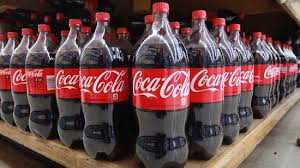coke: (137, 2, 189, 165), (82, 17, 128, 160), (188, 7, 226, 157), (58, 21, 86, 146), (218, 19, 243, 143), (30, 27, 53, 138), (234, 23, 256, 130), (14, 31, 30, 127), (254, 34, 270, 115), (2, 32, 14, 127), (277, 42, 287, 103), (286, 45, 298, 95), (270, 39, 277, 109)
